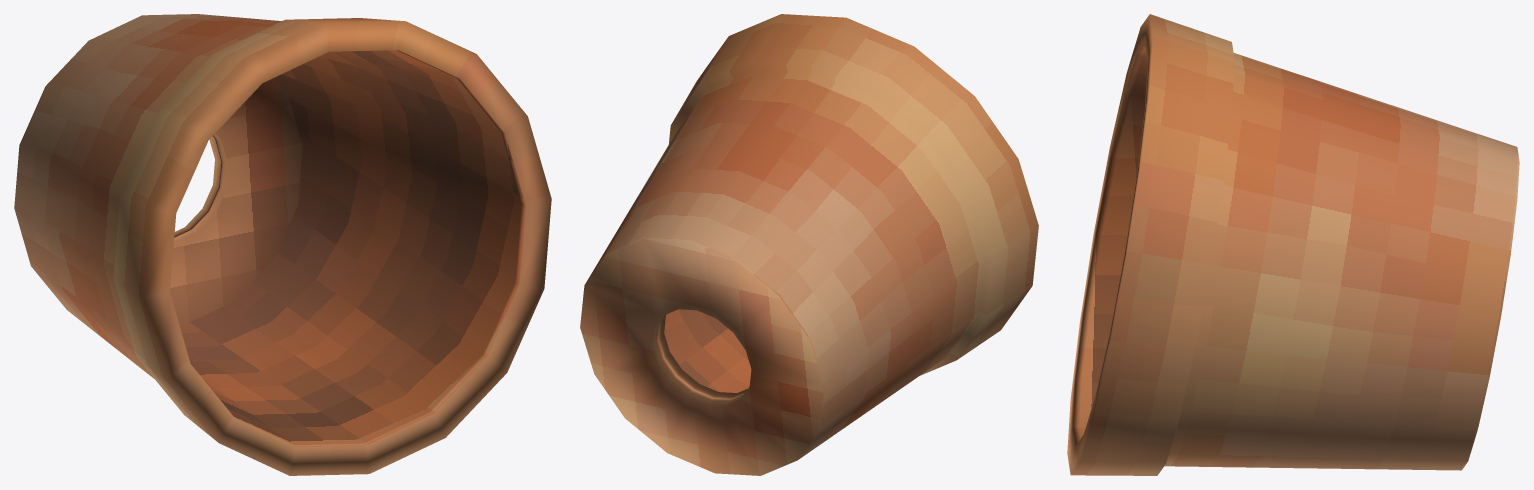
File: objects_un_t01flowerpots08.gltf
The picture shows the model from 3 angles, left to right: view 1: azimuth 30°, elevation 25°; view 2: azimuth 150°, elevation 25°; view 3: azimuth 270°, elevation 25°; orthographic projection. The views are drawn at different scales.
Parts seen in each view (by area): view 1: objects_un_t01flowerpots08_mesh_shape:objects_un_t01flowerpo; view 2: objects_un_t01flowerpots08_mesh_shape:objects_un_t01flowerpo; view 3: objects_un_t01flowerpots08_mesh_shape:objects_un_t01flowerpo.
Part boxes in pixels (bbox=[...]): objects_un_t01flowerpots08_mesh_shape:objects_un_t01flowerpo: bbox=[14, 14, 551, 475]; objects_un_t01flowerpots08_mesh_shape:objects_un_t01flowerpo: bbox=[580, 14, 1038, 475]; objects_un_t01flowerpots08_mesh_shape:objects_un_t01flowerpo: bbox=[1067, 14, 1519, 475].
Size of what is drawn, in the model's own units: 0.3 by 0.2962 by 0.2896.
1 material, 1 textured.
